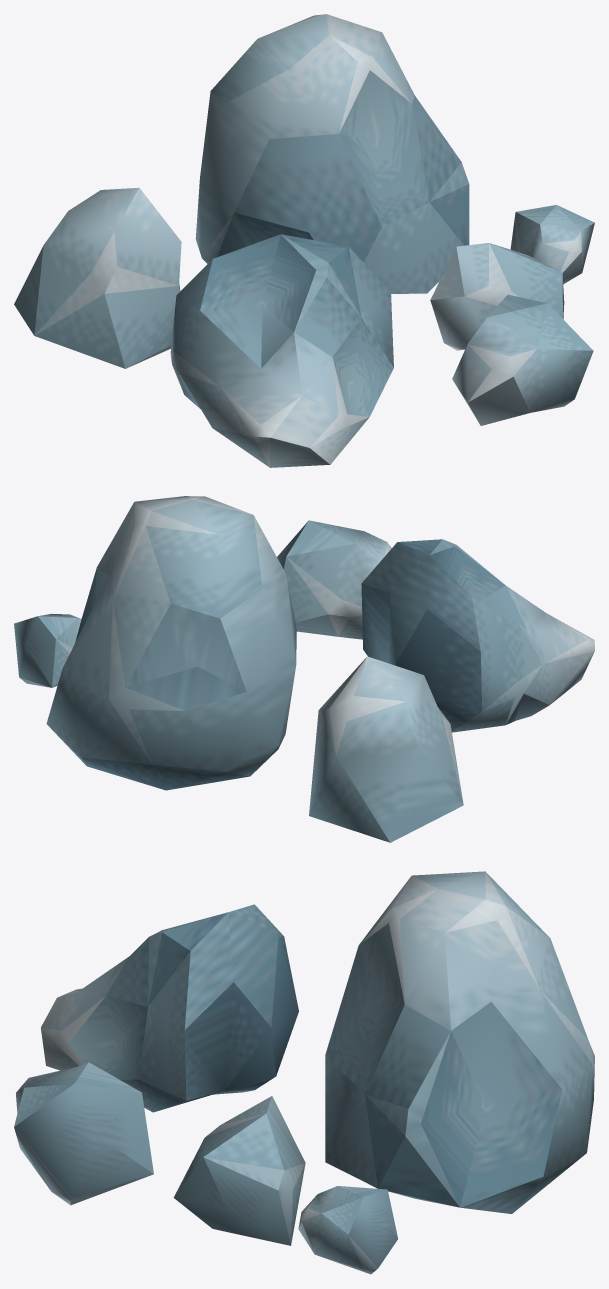
The model's file is Silver_Nuggets.gltf.
The picture shows the model from 3 angles, top to bottom: view 1: azimuth 30°, elevation 25°; view 2: azimuth 150°, elevation 25°; view 3: azimuth 270°, elevation 25°; orthographic projection. The views are drawn at different scales.
Visible parts, largest first — view 1: Silver_Nuggets; view 2: Silver_Nuggets; view 3: Silver_Nuggets.
Part boxes in pixels (box(x1,y1,x2,y2)): Silver_Nuggets: box(14, 14, 594, 467); Silver_Nuggets: box(14, 496, 594, 842); Silver_Nuggets: box(14, 871, 594, 1274).
Bounding box in the file's own units: 0.9288 × 0.4749 × 0.8501.
1 material, 1 textured.
